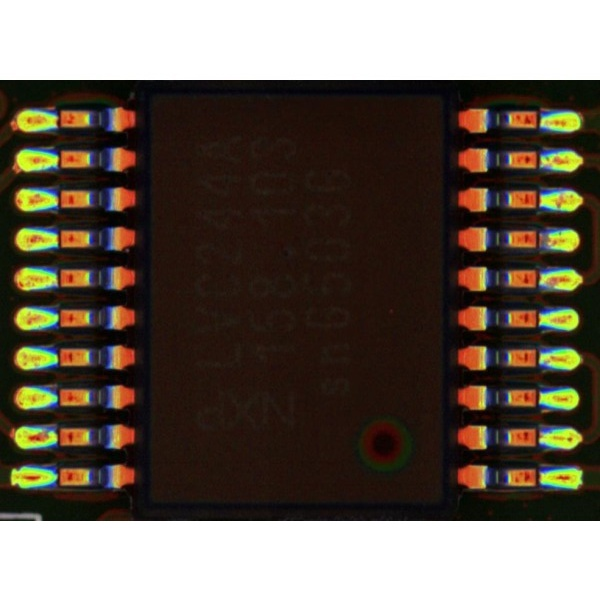Bad_podu: (527, 232, 555, 245)
